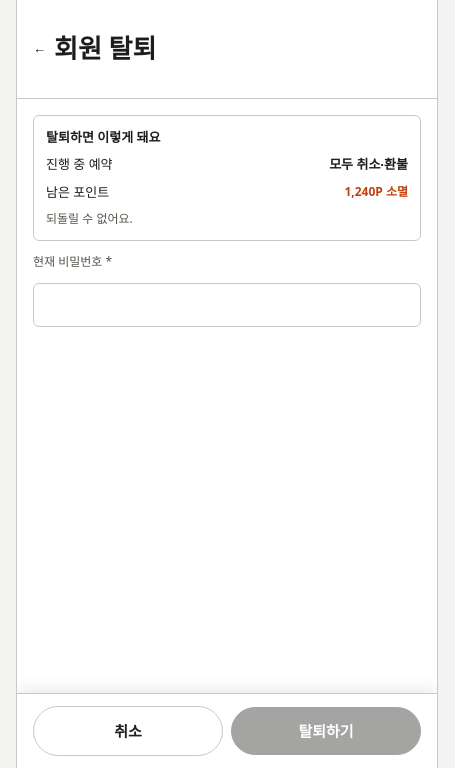
Test: WithdrawPage (C7) › 처리 중에 화면을 떠나도(언마운트) account.withdraw에 넘긴 signal은 abort되지 않는다
Type "pw123456" into the password field labelled "현재 비밀번호 *" at (227, 305), box [33,283,421,327]
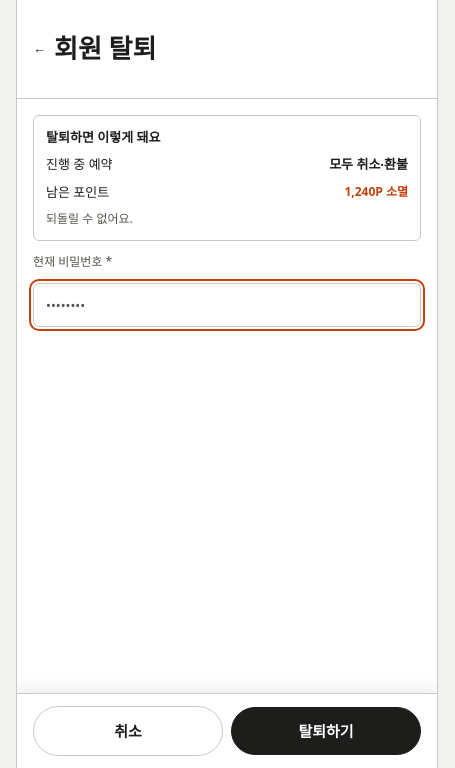
Click the button "탈퇴하기" at (326, 731), box [231,707,421,755]
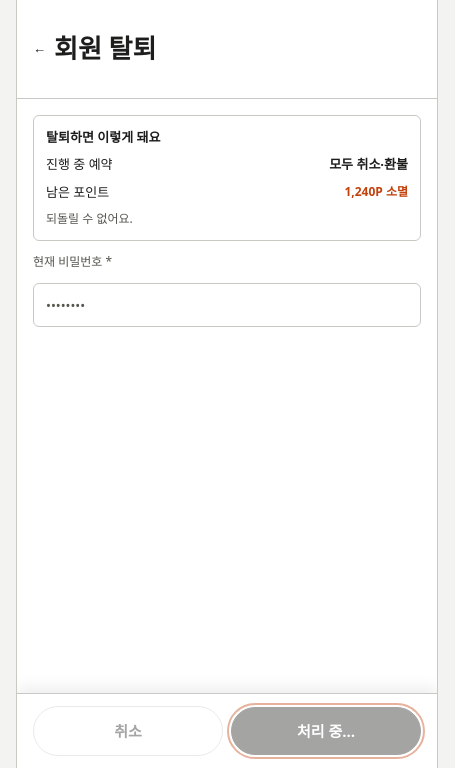
Expected: the button "처리 중…" is shown, [231,707,421,755]
